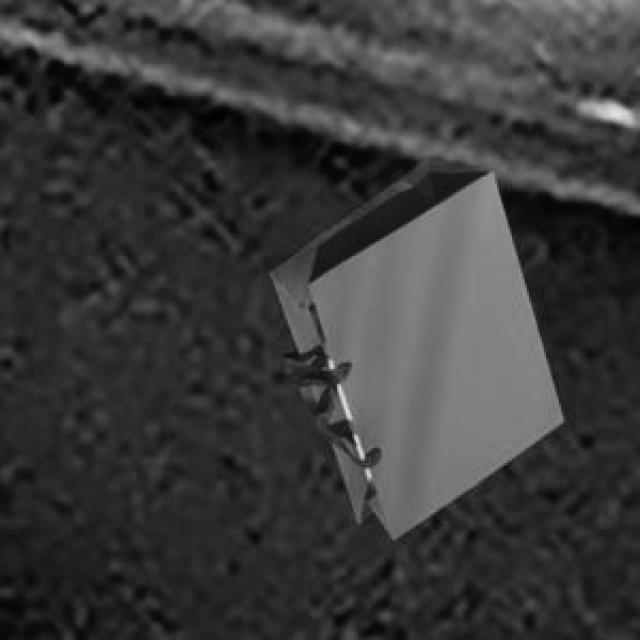paper: (267, 156, 559, 536)
